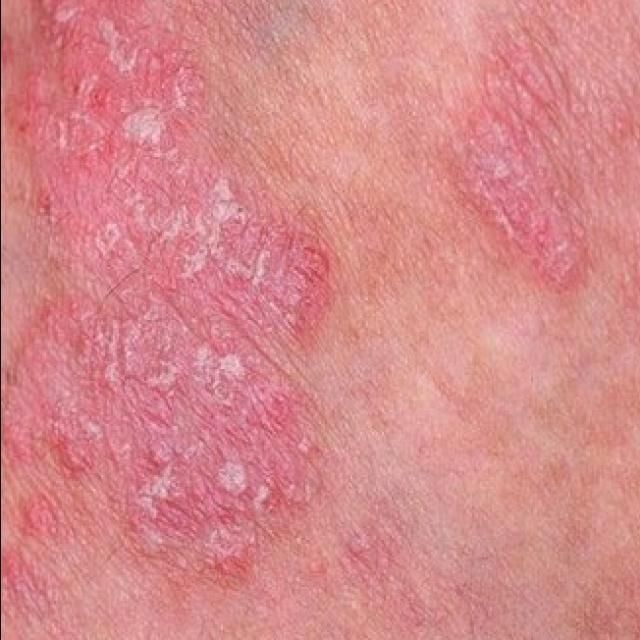Psoriasis: (0, 0, 334, 640), (440, 0, 604, 314)
